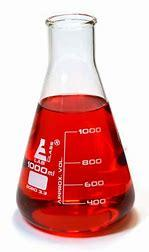Titrarion: (8, 11, 138, 237)
